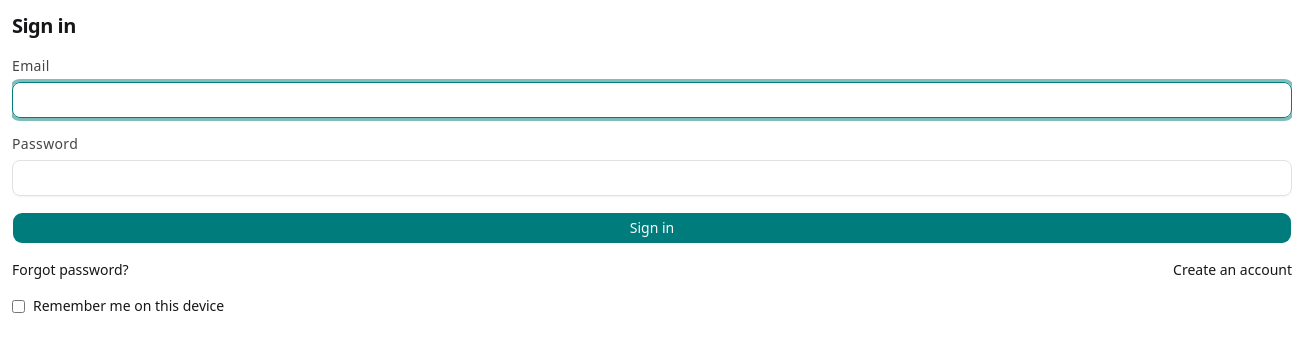
it: Login page › renders an inline field error on INVALID_CREDENTIALS
Type "a@b.test" into the field labelled "Email". click: (652, 100)
box: x1=12 y1=82 x2=1292 y2=118
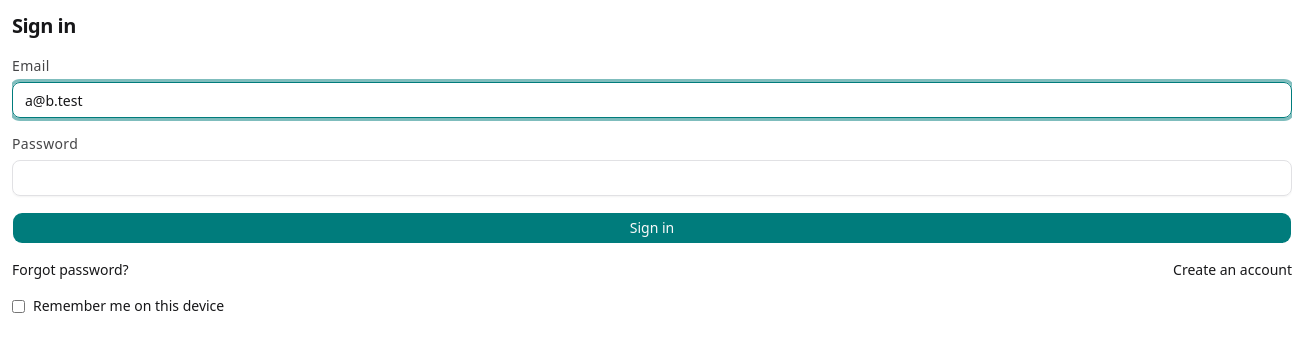
Type "pw" into the password field labelled "Password". click: (652, 178)
box: x1=12 y1=160 x2=1292 y2=196
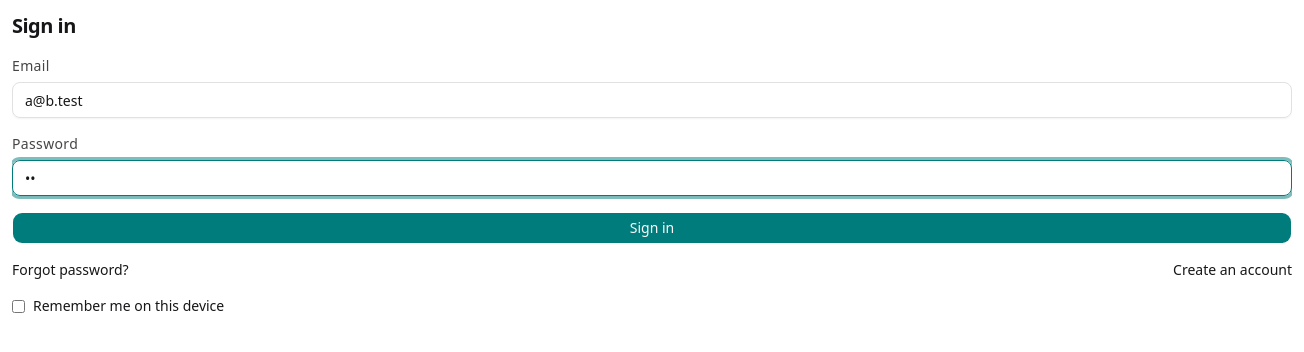
Click the button "Sign in". click: (652, 228)
box: x1=12 y1=212 x2=1292 y2=244
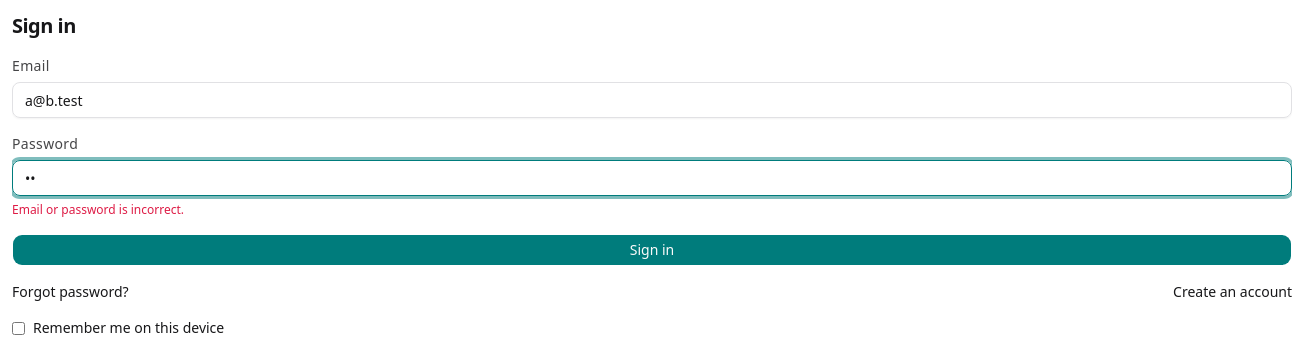
Now the text "Email or password is incorrect." is shown, box x1=12 y1=201 x2=184 y2=218
